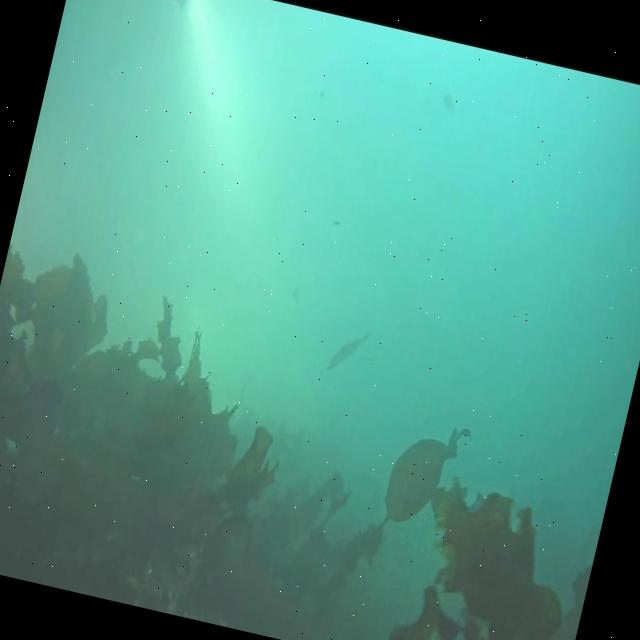fish: (324, 326, 368, 382), (439, 92, 461, 117), (148, 0, 190, 10)
